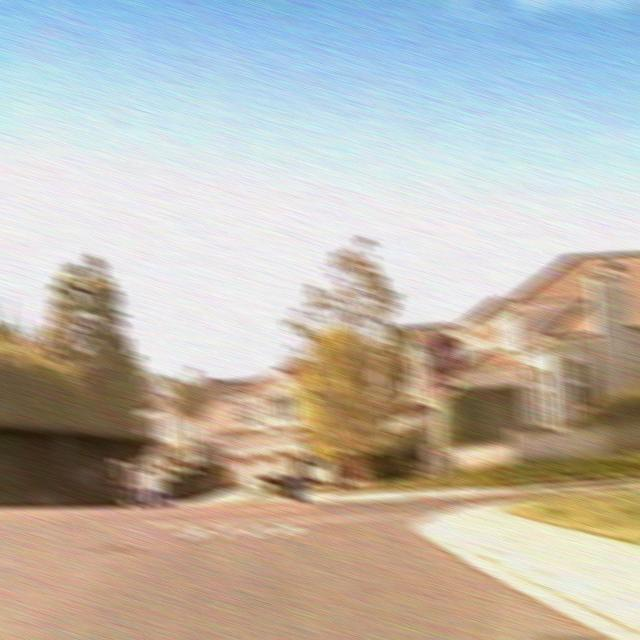stop: (423, 332, 464, 382)
